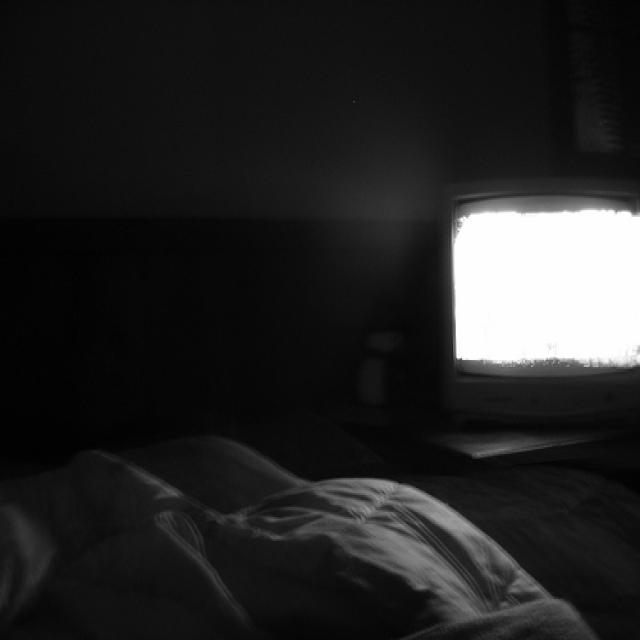tvmonitor: (435, 182, 640, 426)
